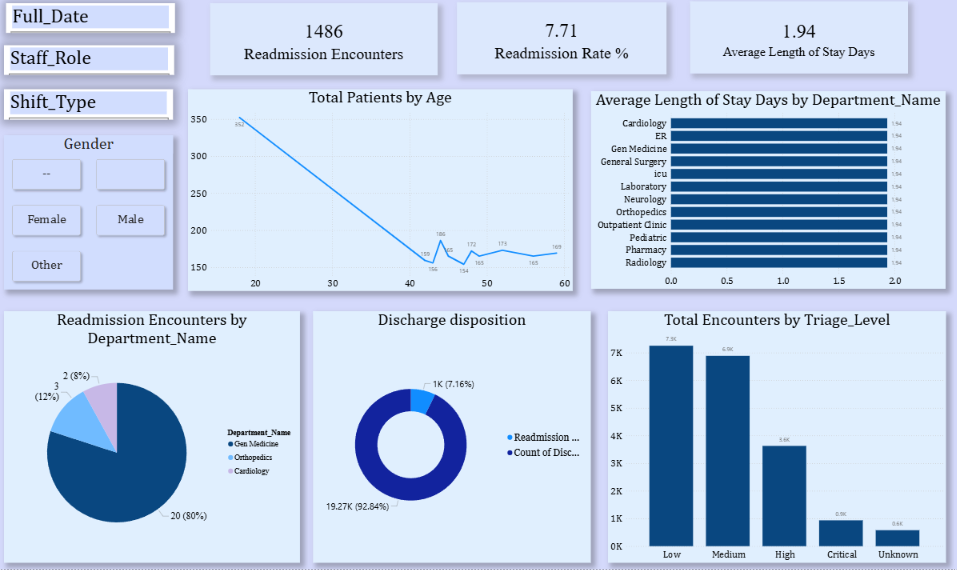

This screenshot's page, from the dashboard's own definition file:
{"tool":"powerbi","page":{"name":"Patient Outcomes & Quality of Care","canvas":[2000,1200],"ordinal":2},"visuals":[{"type":"card","fields":{"Values":["healthcare bed_occupancy_clean.Readmission Encounters"]},"box":[443.2,24.5,472.2,149.2],"z":8000},{"type":"card","fields":{"Values":["healthcare bed_occupancy_clean.Readmission Rate %"]},"box":[955.5,22.3,434.3,149.2],"z":9000},{"type":"card","fields":{"Values":["healthcare bed_occupancy_clean.Average Length of Stay Days"]},"box":[1438.8,20,452.1,149.2],"z":10000},{"type":"clusteredColumnChart","fields":{"Category":["healthcare encounters_clean.Triage_Level"],"Y":["healthcare bed_occupancy_clean.Total Encounters"]},"box":[1268.3,663.7,701,521.4],"z":11000},{"type":"donutChart","title":"Discharge disposition","fields":{"Y":["healthcare bed_occupancy_clean.Readmission Encounters","CountNonNull(healthcare encounters_clean.Discharge_Disposition)"]},"box":[657.2,663.7,576.1,521.4],"z":12000},{"type":"pieChart","fields":{"Category":["healthcare departments_clean.Department_Name"],"Y":["healthcare bed_occupancy_clean.Readmission Encounters"]},"box":[17.5,663.7,613.4,521.4],"z":13000},{"type":"clusteredBarChart","fields":{"Category":["healthcare departments_clean.Department_Name"],"Y":["healthcare bed_occupancy_clean.Average Length of Stay Days"]},"box":[1233.9,207.1,735,409.8],"z":14000},{"type":"slicer","fields":{"Values":["healthcare calendar_clean.Full_Date"]},"box":[19.7,24.1,350.5,61.3],"z":17000},{"type":"lineChart","fields":{"Category":["healthcare patients_clean.Age"],"Y":["healthcare bed_occupancy_clean.Total Patients"]},"box":[398.7,202.7,797.3,418.7],"z":20000},{"type":"slicer","fields":{"Values":["healthcare staff_clean.Staff_Role"]},"box":[17.5,111.7,352.7,61.3],"z":21000},{"type":"slicer","fields":{"Values":["healthcare staffing_requirements_clean.Shift_Type"]},"box":[17.5,203.7,350.5,63.5],"z":22000},{"type":"advancedSlicerVisual","fields":{"Values":["healthcare patients_clean.Gender"]},"box":[17.5,297.9,350.5,319.8],"z":23000}]}

Visuals, with their boxes in screenshot pixels (x1, y1, x2, y2), scaled from the page's 2000x1200 canvas onto the 957x570 screenshot:
card - healthcare bed_occupancy_clean.Readmission Encounters: box(212, 12, 438, 83)
card - healthcare bed_occupancy_clean.Readmission Rate %: box(457, 11, 665, 81)
card - healthcare bed_occupancy_clean.Average Length of Stay Days: box(688, 10, 905, 80)
clusteredColumnChart - healthcare encounters_clean.Triage_Level x healthcare bed_occupancy_clean.Total Encounters: box(607, 315, 942, 563)
"Discharge disposition" donutChart: box(314, 315, 590, 563)
pieChart - healthcare departments_clean.Department_Name x healthcare bed_occupancy_clean.Readmission Encounters: box(8, 315, 302, 563)
clusteredBarChart - healthcare departments_clean.Department_Name x healthcare bed_occupancy_clean.Average Length of Stay Days: box(590, 98, 942, 293)
slicer - healthcare calendar_clean.Full_Date: box(9, 11, 177, 41)
lineChart - healthcare patients_clean.Age x healthcare bed_occupancy_clean.Total Patients: box(191, 96, 572, 295)
slicer - healthcare staff_clean.Staff_Role: box(8, 53, 177, 82)
slicer - healthcare staffing_requirements_clean.Shift_Type: box(8, 97, 176, 127)
advancedSlicerVisual - healthcare patients_clean.Gender: box(8, 142, 176, 293)
